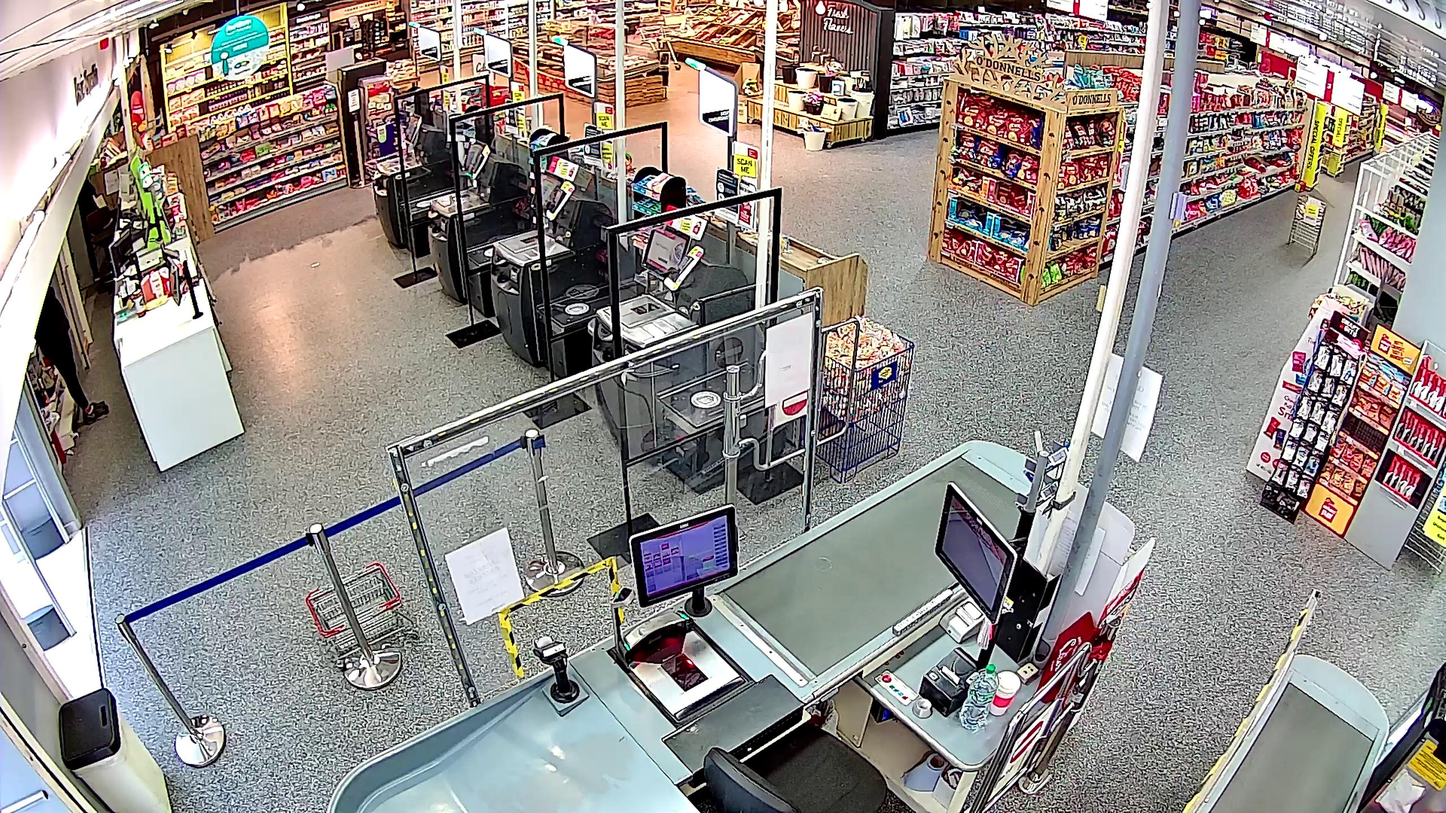vacant-checkout-counter: (516, 477, 1037, 813)
